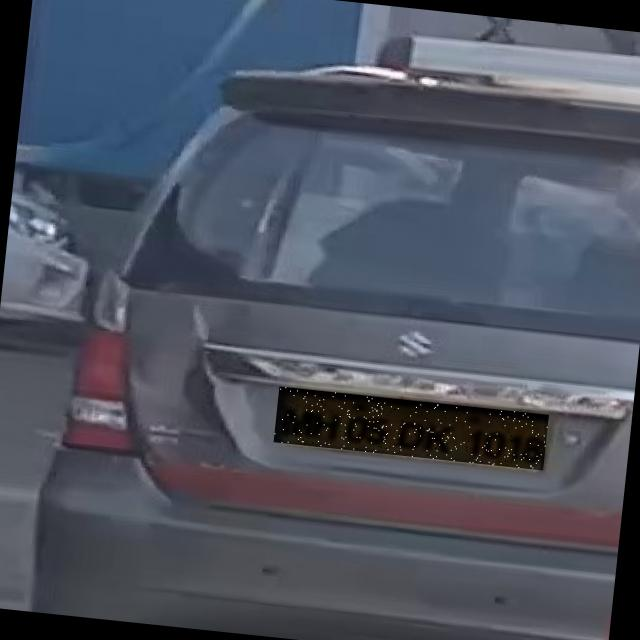Plate: (274, 387, 549, 471)
